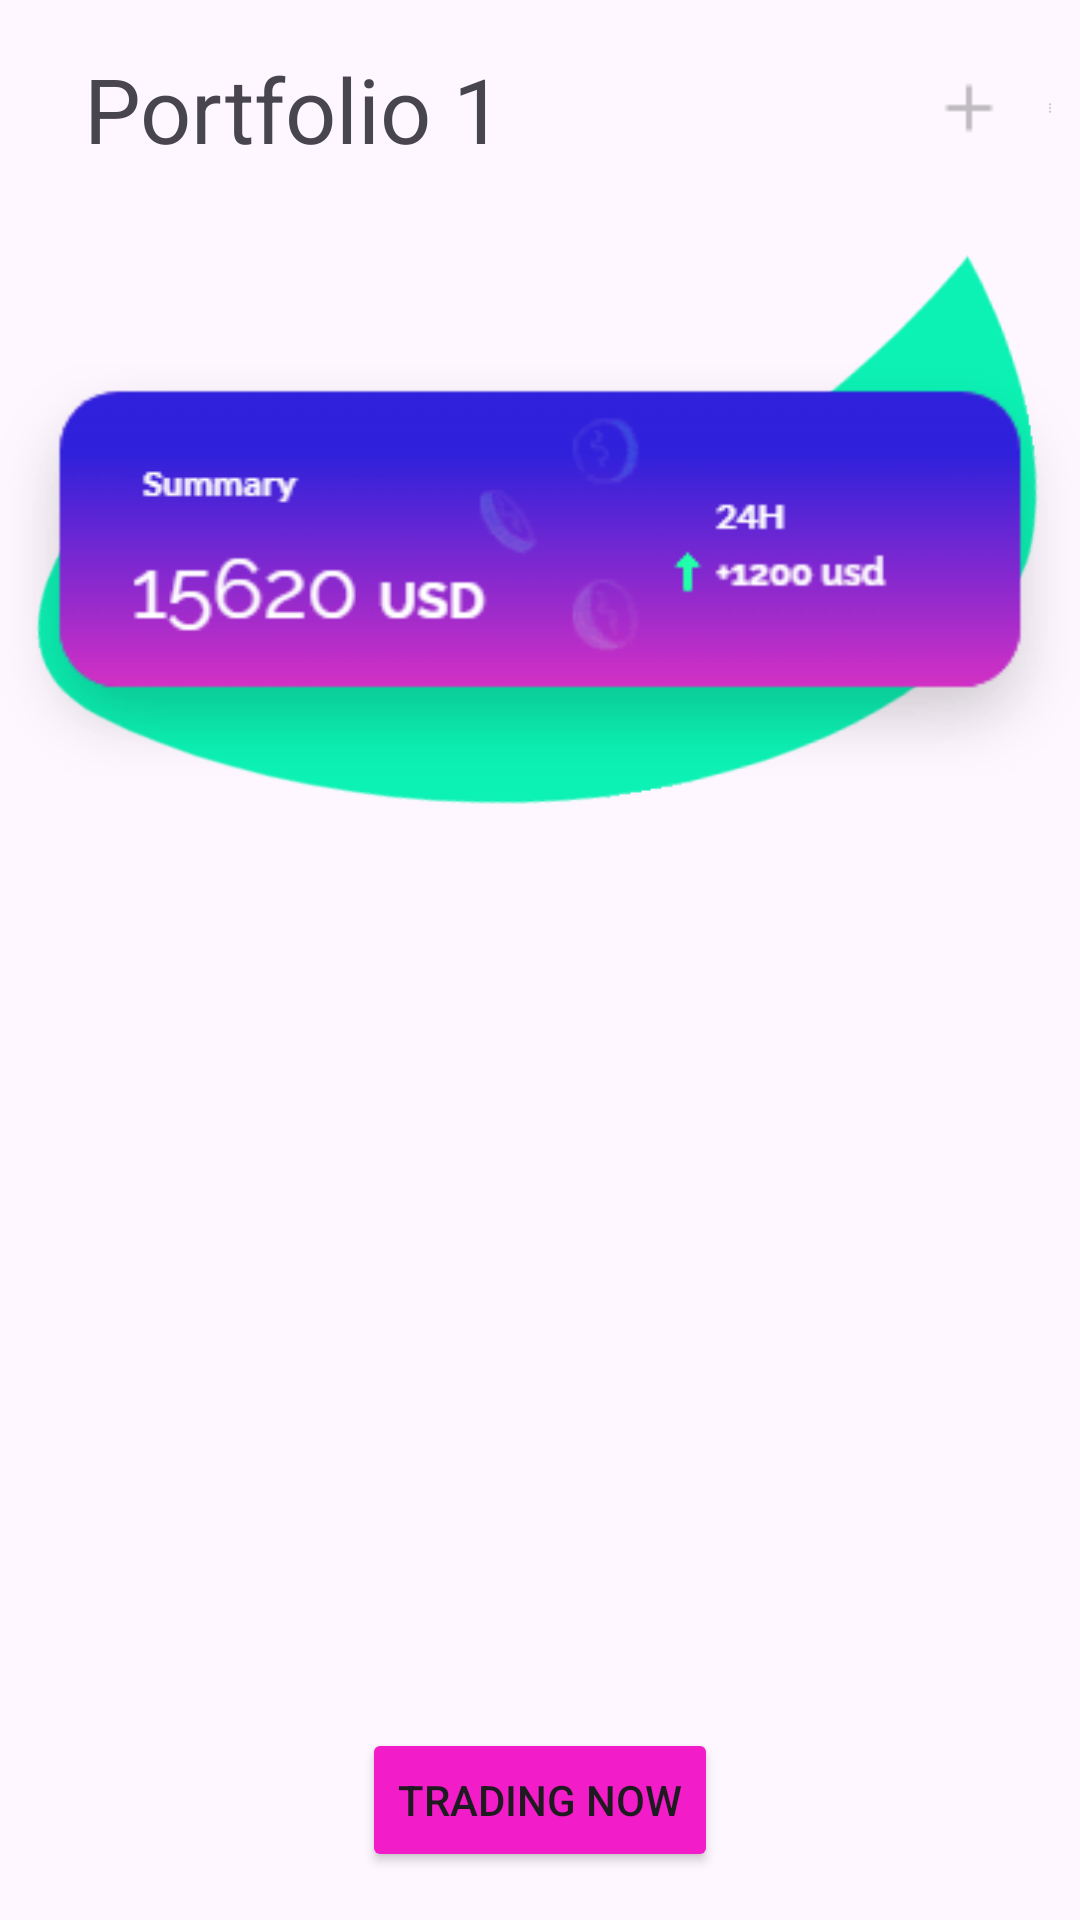

Named icons in this screenshot (1080 × 1920) and their bounding boxes, (x1, y1, x2, y2):
plus: (946, 85, 992, 131)
